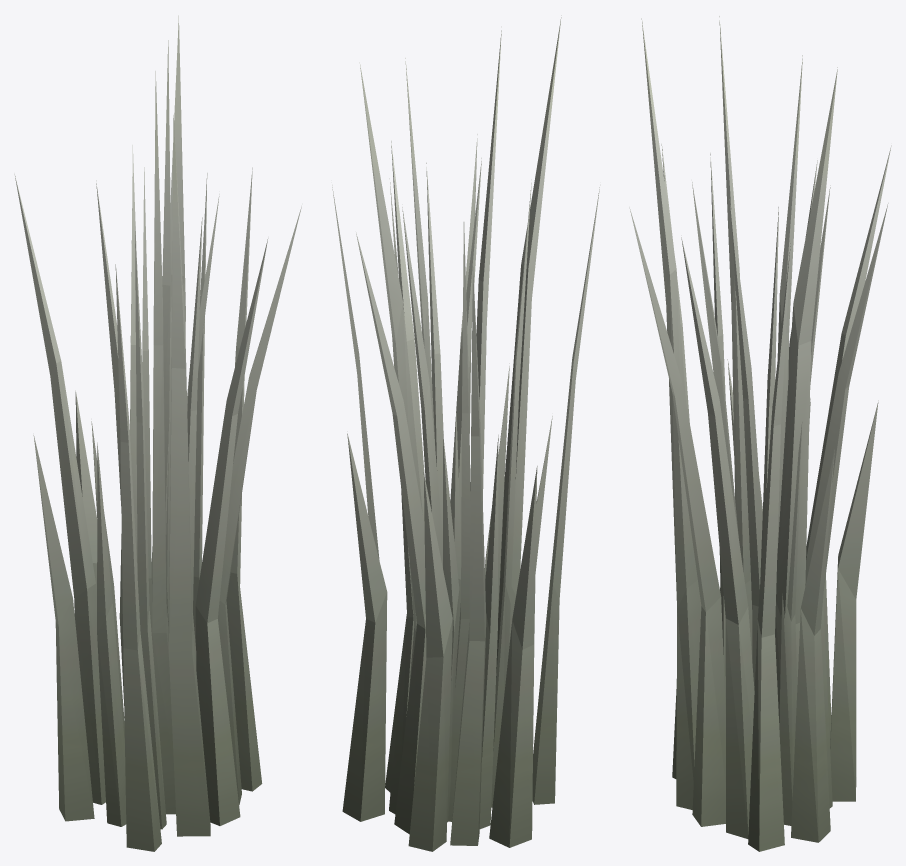
Rendered from tallgrass_c.glb.
3 views of the same model, side by side, from view 1: azimuth 30°, elevation 25°; view 2: azimuth 150°, elevation 25°; view 3: azimuth 270°, elevation 25° (orthographic).
Parts seen in each view (by area): view 1: GrassHigh_B_4; view 2: GrassHigh_B_4; view 3: GrassHigh_B_4.
Part boxes in pixels (x1,y1,x2,y2): GrassHigh_B_4: (14,15,301,851); GrassHigh_B_4: (332,15,600,851); GrassHigh_B_4: (629,16,891,851).
Size of the model in its own units: 0.3034 by 1.05 by 0.3227.
1 material, 1 textured.
